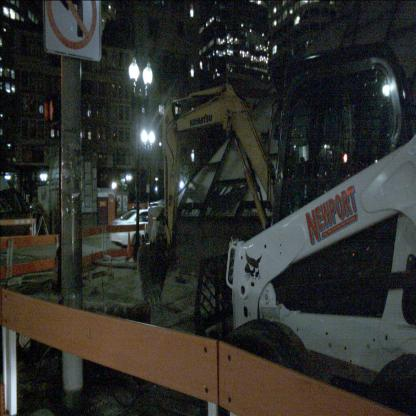cone: (125, 232, 134, 259), (28, 212, 34, 244)
